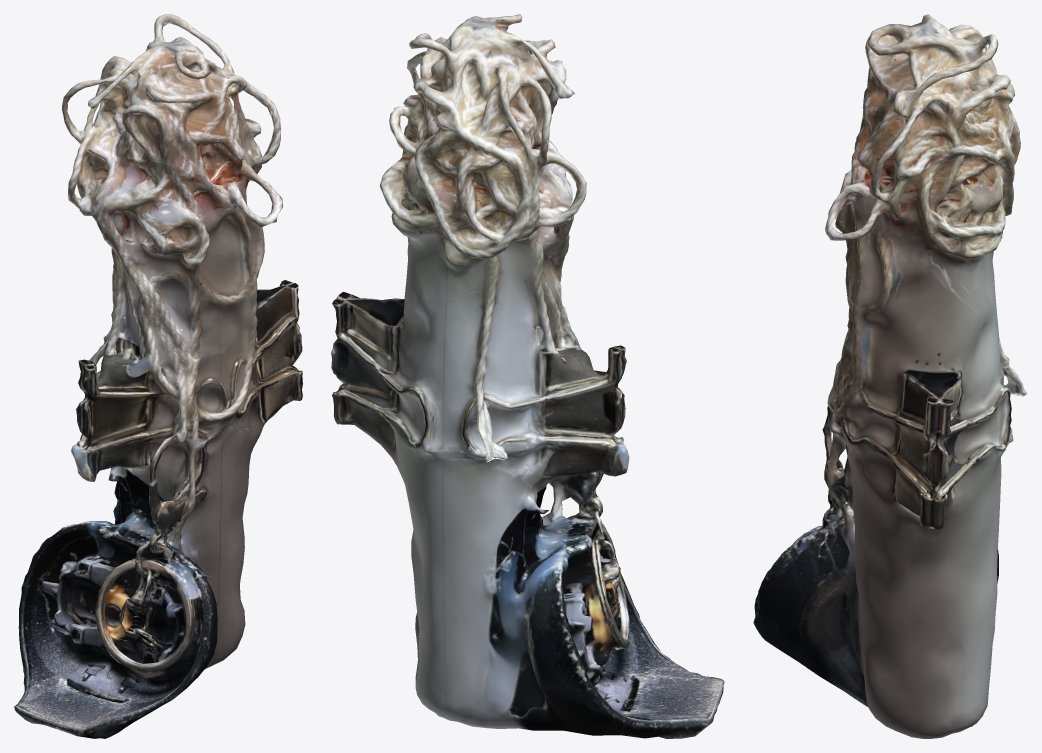
3 views of the same model, side by side, from view 1: azimuth 30°, elevation 25°; view 2: azimuth 150°, elevation 25°; view 3: azimuth 270°, elevation 25° (orthographic). The views are drawn at different scales.
Visible parts, largest first — view 1: P15; view 2: P15; view 3: P15.
Boxes of the visible parts, x1=… form: P15: x1=14, y1=14, x2=302, y2=738; P15: x1=331, y1=14, x2=724, y2=738; P15: x1=753, y1=14, x2=1027, y2=738.
Size of the model in its own units: 0.458 by 0.875 by 0.3122.
1 material, 1 textured.
